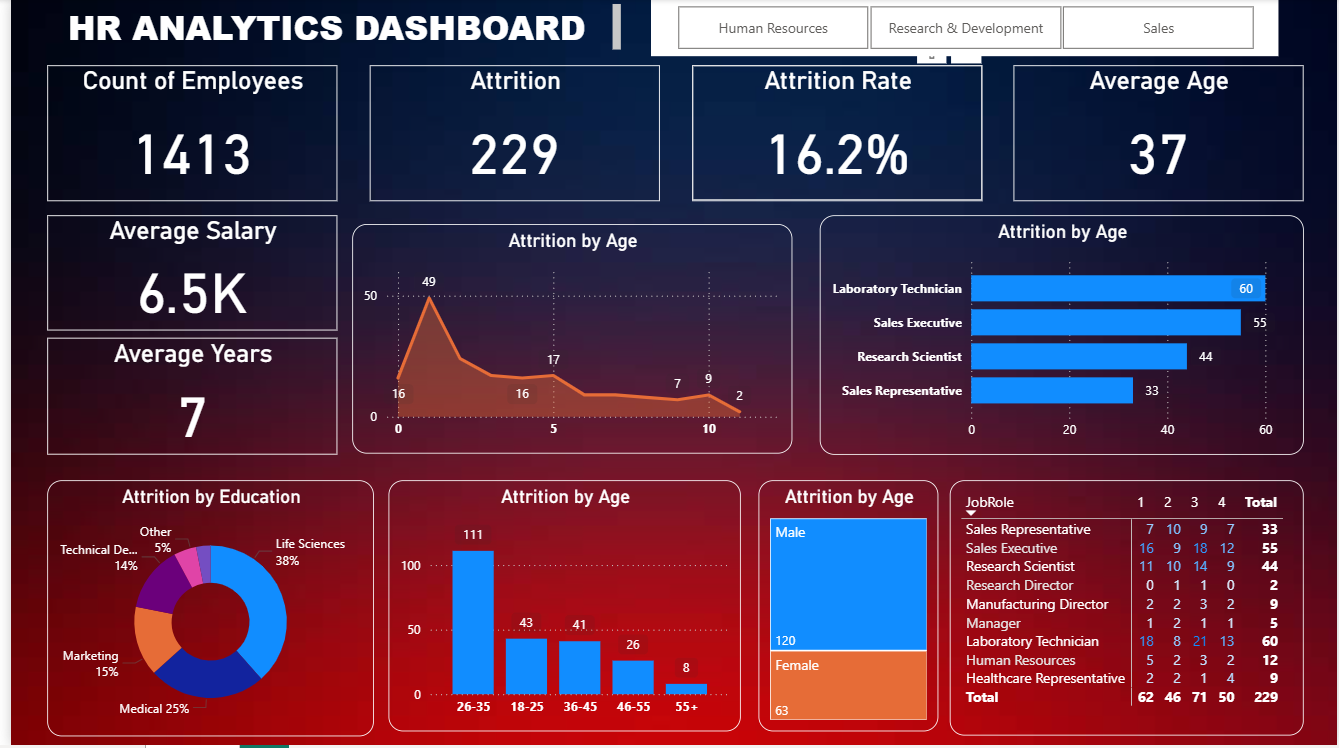

This screenshot's page, from the dashboard's own definition file:
{"tool":"powerbi","page":{"name":"Page 1","canvas":[1280,720],"ordinal":0},"visuals":[{"type":"card","title":"Count of Employees","fields":{"Values":["CountNonNull(HR_Analytics.EmpID)"]},"box":[34.6,63.8,279.9,131.3],"z":0},{"type":"card","title":"Attrition ","fields":{"Values":["Sum(HR_Analytics.AttritionCount)"]},"box":[345.8,63.5,279.9,131.3],"z":1000},{"type":"card","title":"Attrition Rate ","fields":{"Values":["HR_Analytics.AttritionRate"]},"box":[656.9,63.5,279.9,131.3],"z":2000},{"type":"card","title":"Average Age ","fields":{"Values":["Avg(HR_Analytics.Age)"]},"box":[968.1,63.5,279.9,131.3],"z":3000},{"type":"card","title":"Average Years ","fields":{"Values":["Avg(HR_Analytics.YearsAtCompany)"]},"box":[34.6,327.5,279.9,112.5],"z":4000},{"type":"card","title":"Average Salary","fields":{"Values":["Avg(HR_Analytics.MonthlyIncome)"]},"box":[34.6,209.2,279.9,111.1],"z":5000},{"type":"donutChart","title":"Attrition by Education","fields":{"Category":["HR_Analytics.EducationField"],"Y":["Sum(HR_Analytics.AttritionCount)"]},"box":[35,464.5,314.9,247.3],"z":6000},{"type":"columnChart","title":"Attrition by Age","fields":{"Category":["HR_Analytics.AgeGroup"],"Y":["Sum(HR_Analytics.AttritionCount)"]},"box":[364.3,464.5,340.2,242.5],"z":7000},{"type":"pivotTable","title":"Attrition by Education","fields":{"Rows":["HR_Analytics.JobRole"],"Columns":["HR_Analytics.JobSatisfaction"],"Values":["Sum(HR_Analytics.AttritionCount)"]},"box":[906.1,464.6,341.9,246.7],"z":8000},{"type":"clusteredBarChart","title":"Attrition by Age","fields":{"Y":["Sum(HR_Analytics.AttritionCount)"],"Category":["HR_Analytics.JobRole"]},"box":[780.5,209.2,467.5,230.8],"z":9000},{"type":"areaChart","title":"Attrition by Age","fields":{"Category":["HR_Analytics.YearsAtCompany"],"Y":["Sum(HR_Analytics.AttritionCount)"]},"box":[329.4,217.2,424.7,222],"z":10000},{"type":"treemap","title":"Attrition by Age","fields":{"Group":["HR_Analytics.Gender"],"Values":["Sum(HR_Analytics.AttritionCount)"]},"box":[721.5,464.5,173.7,242.5],"z":11000},{"type":"textbox","box":[35,0,558.6,54.3],"z":12000},{"type":"slicer","fields":{"Values":["HR_Analytics.Department"]},"box":[617.5,0,606,54.8],"z":13000}]}

Visuals, with their boxes in screenshot pixels (x1, y1, x2, y2), scaled from the page's 1280x720 canvas onto the 1339x748 screenshot:
"Count of Employees" card: pyautogui.locateOnScreen(36, 66, 329, 203)
"Attrition " card: pyautogui.locateOnScreen(362, 66, 655, 202)
"Attrition Rate " card: pyautogui.locateOnScreen(687, 66, 980, 202)
"Average Age " card: pyautogui.locateOnScreen(1013, 66, 1306, 202)
"Average Years " card: pyautogui.locateOnScreen(36, 340, 329, 457)
"Average Salary" card: pyautogui.locateOnScreen(36, 217, 329, 333)
"Attrition by Education" donutChart: pyautogui.locateOnScreen(37, 483, 366, 739)
"Attrition by Age" columnChart: pyautogui.locateOnScreen(381, 483, 737, 734)
"Attrition by Education" pivotTable: pyautogui.locateOnScreen(948, 483, 1306, 739)
"Attrition by Age" clusteredBarChart: pyautogui.locateOnScreen(816, 217, 1306, 457)
"Attrition by Age" areaChart: pyautogui.locateOnScreen(345, 226, 789, 456)
"Attrition by Age" treemap: pyautogui.locateOnScreen(755, 483, 936, 734)
textbox: pyautogui.locateOnScreen(37, 0, 621, 56)
slicer - HR_Analytics.Department: pyautogui.locateOnScreen(646, 0, 1280, 57)
